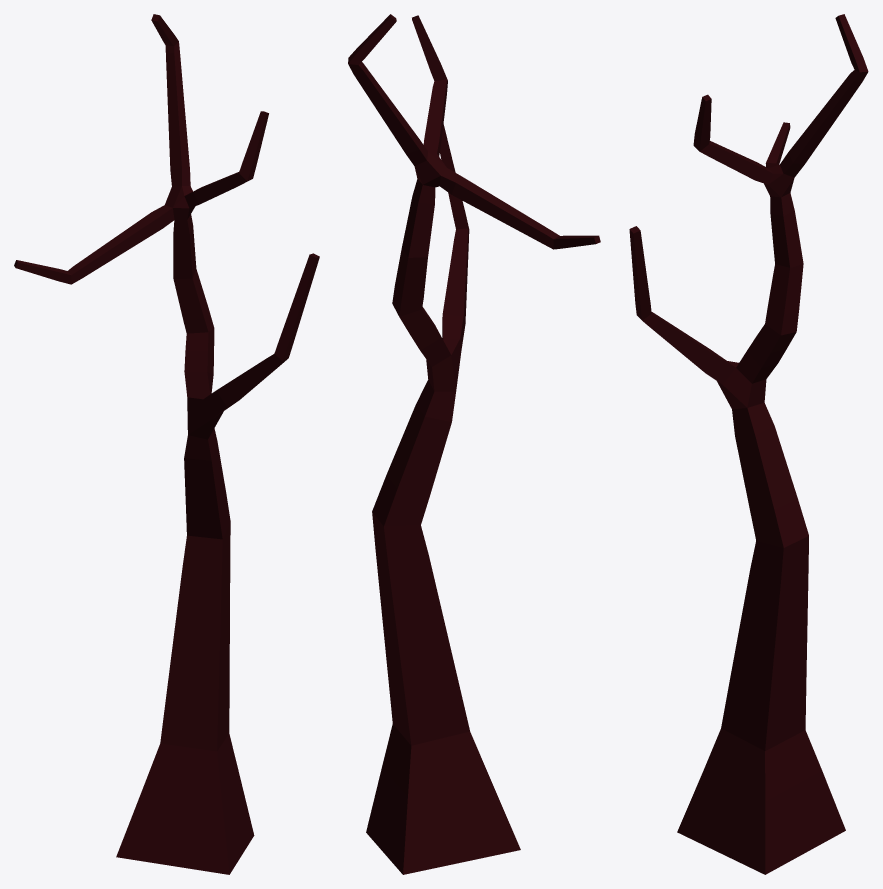
The model's file is Tree2.fbx.
3 renders of one model, left to right at view 1: azimuth 30°, elevation 25°; view 2: azimuth 150°, elevation 25°; view 3: azimuth 270°, elevation 25°, orthographic. The views are drawn at different scales.
Parts seen in each view (by area): view 1: Cube; view 2: Cube; view 3: Cube.
Part boxes in pixels (x1,y1,x2,y2): Cube: (14,14,319,874); Cube: (348,14,600,874); Cube: (629,14,868,874).
Bounding box in the file's own units: 416 × 1391 × 363.
